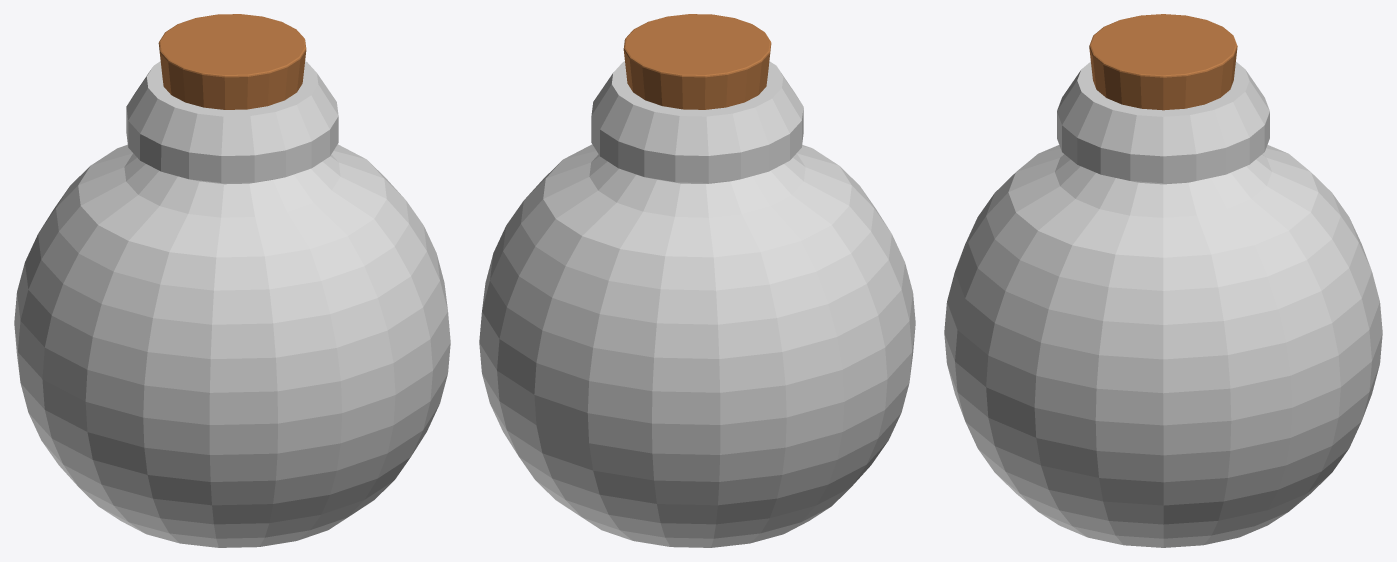
Rendered from Manapotion.fbx.
3 views of the same model, side by side, from view 1: azimuth 30°, elevation 25°; view 2: azimuth 150°, elevation 25°; view 3: azimuth 270°, elevation 25° (orthographic).
Parts seen in each view (by area): view 1: polySurface4, pCylinder1; view 2: polySurface4, pCylinder1; view 3: polySurface4, pCylinder1.
Part boxes in pixels (bbox=[...]): polySurface4: bbox=[14, 61, 450, 547]; pCylinder1: bbox=[158, 14, 306, 109]; polySurface4: bbox=[479, 61, 915, 547]; pCylinder1: bbox=[623, 14, 771, 109]; polySurface4: bbox=[944, 61, 1382, 547]; pCylinder1: bbox=[1089, 14, 1237, 110].
Size of the model in its own units: 191 by 221 by 191.
